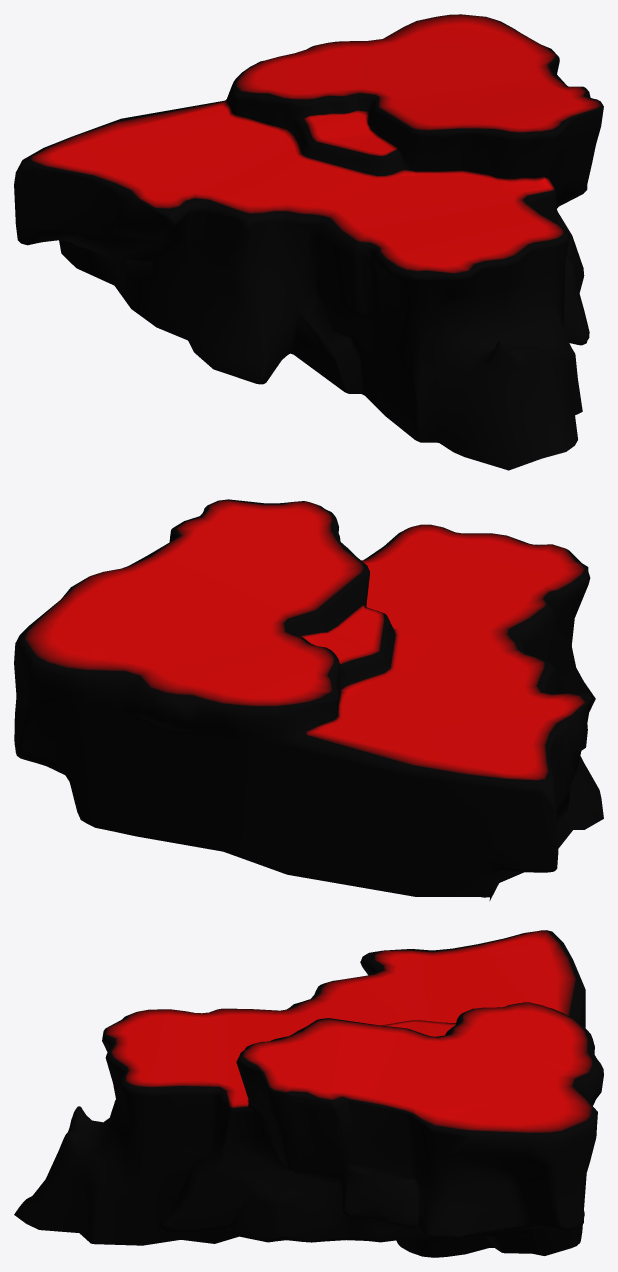
File: Shitou_hill_08.fbx
3 views of the same model, one above another, from view 1: azimuth 30°, elevation 25°; view 2: azimuth 150°, elevation 25°; view 3: azimuth 270°, elevation 25° (orthographic). The views are drawn at different scales.
Visible parts, largest first — view 1: Shitou_hill_08_LOD0; view 2: Shitou_hill_08_LOD0; view 3: Shitou_hill_08_LOD0.
Part boxes in pixels (x1,y1,x2,y2): Shitou_hill_08_LOD0: (14,14,603,470); Shitou_hill_08_LOD0: (14,499,603,900); Shitou_hill_08_LOD0: (14,930,603,1257).
Bounding box in the file's own units: 733 × 317 × 759.
